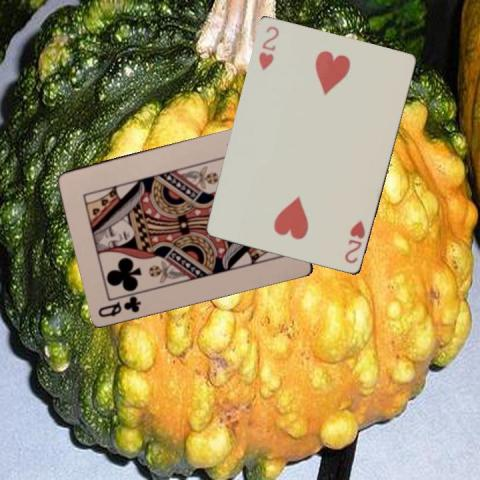2h: (256, 23, 281, 73), (341, 218, 367, 266)
Qc: (95, 292, 142, 318)
